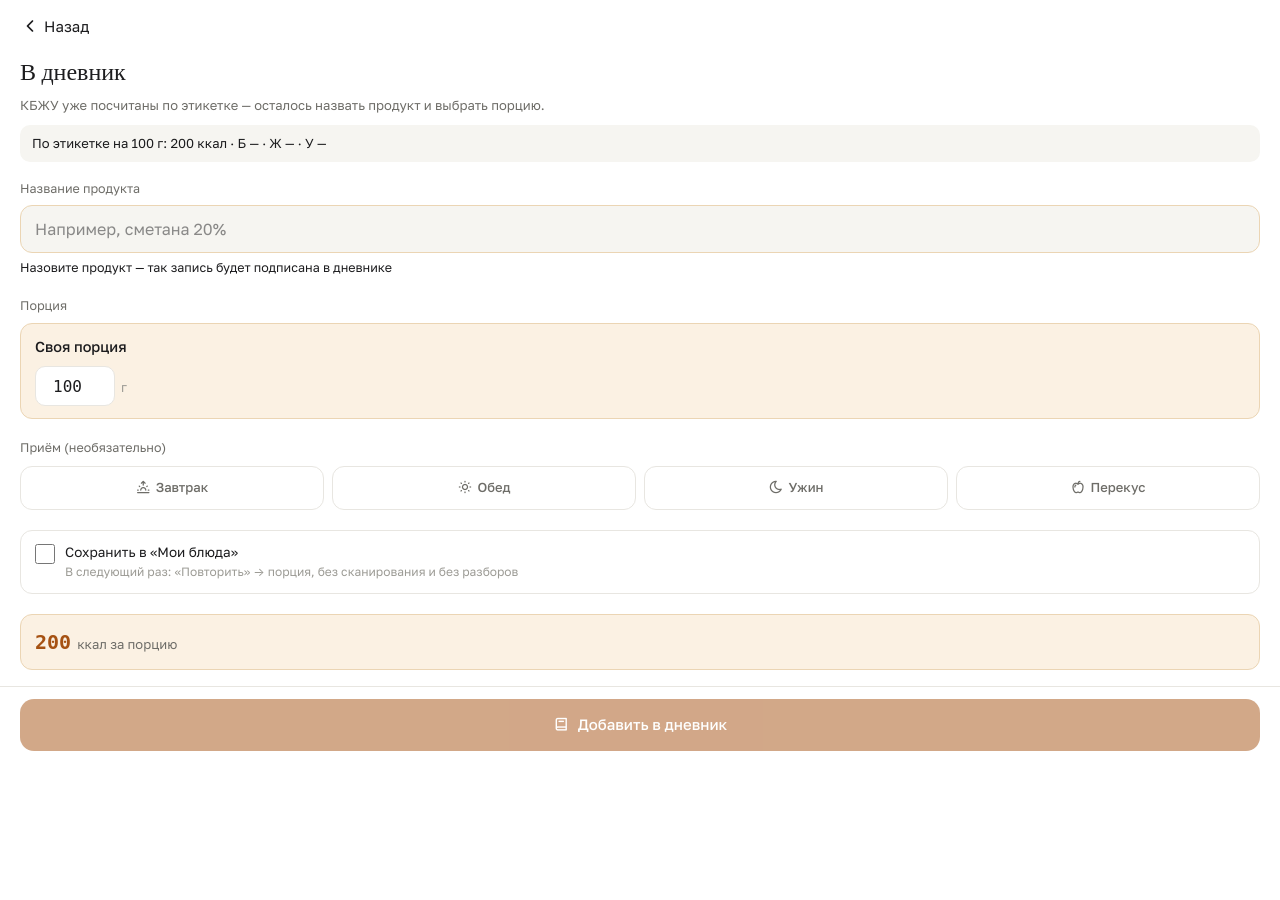
ScanToDiaryScreen — скан → дневник (backlog п.1) › своя порция вне границ (0) блокирует сохранение
The image size is (1280, 900).
Type "Йогурт" into the field named "Название продукта". click: (640, 229)
box: [20,205,1260,253]
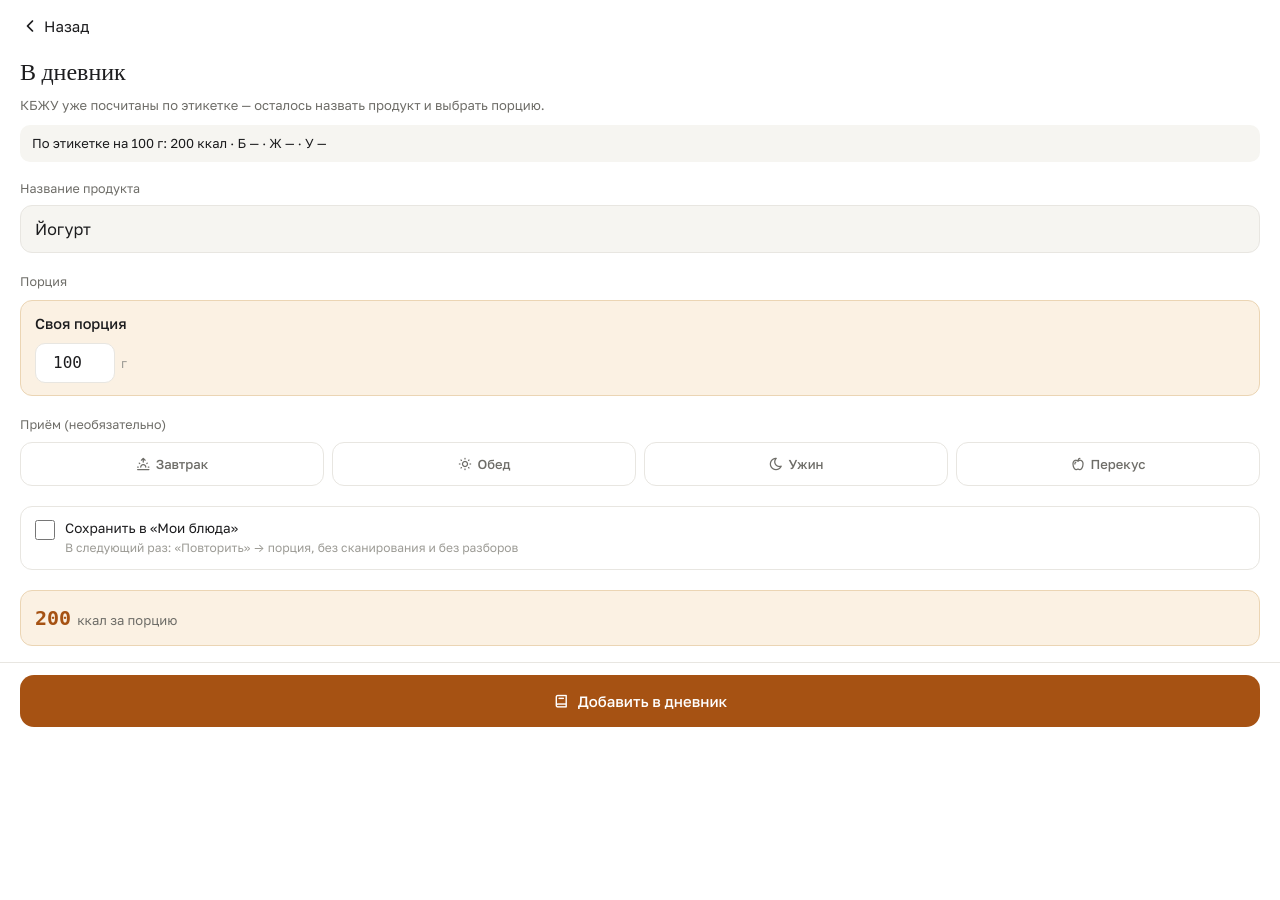
Replace the text in the number field named "Своя порция" with "0". click: (75, 363)
box: [35,343,115,383]
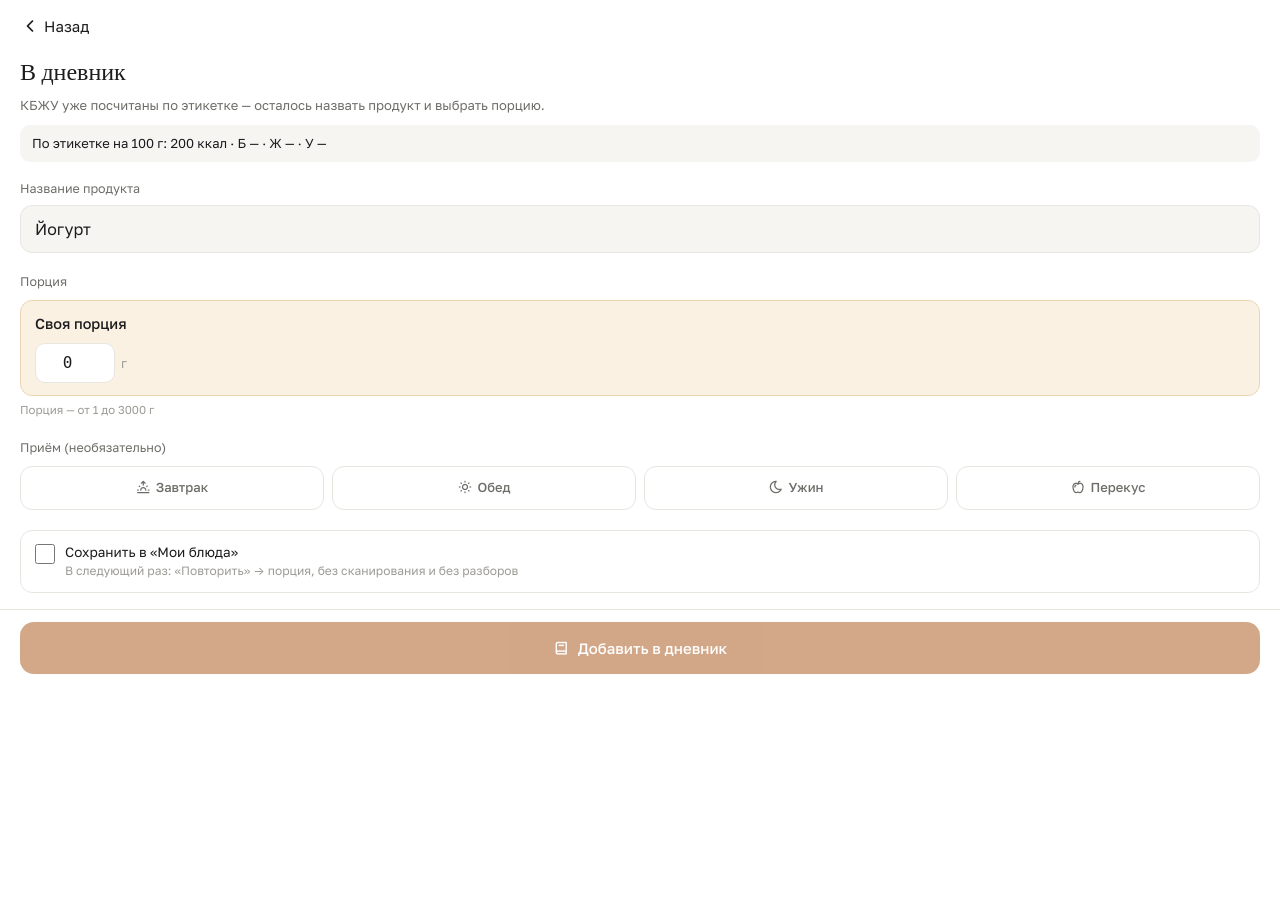
Result: the button "Добавить в дневник" is disabled at [20,622,1260,674]
